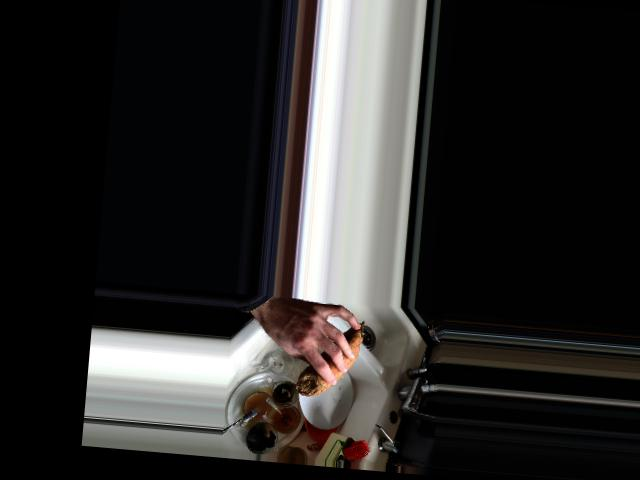sweet_potato: (296, 315, 364, 398)
